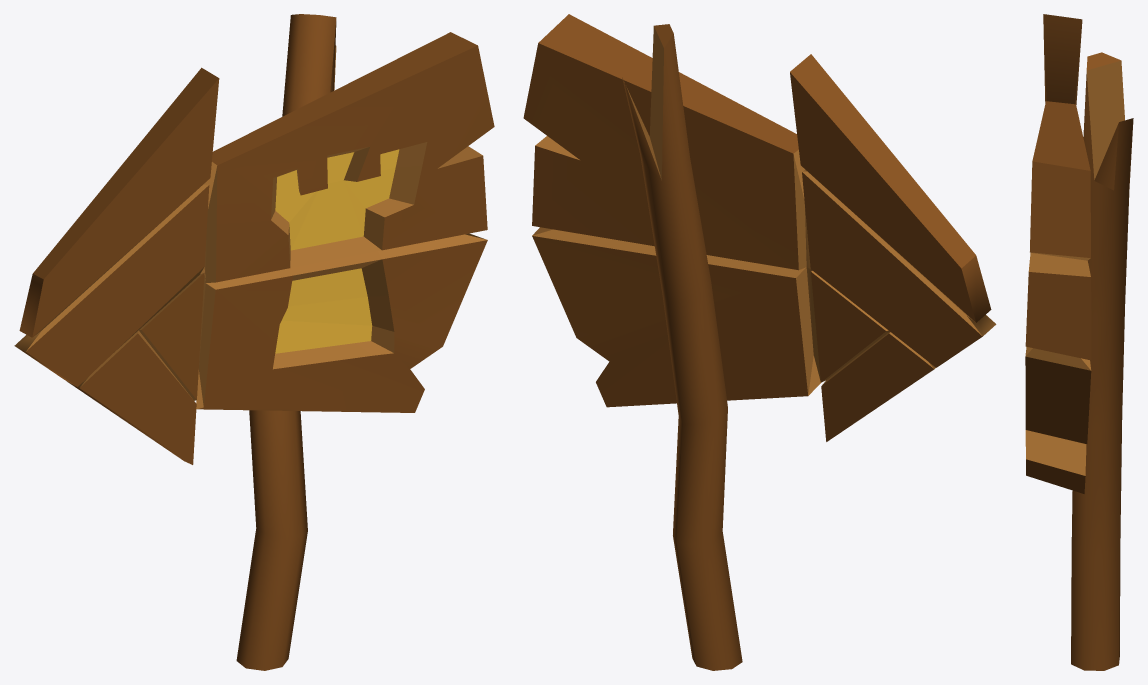
File: PROP_Ice_SignalLeft01.FBX
3 views of the same model, side by side, from view 1: azimuth 30°, elevation 25°; view 2: azimuth 150°, elevation 25°; view 3: azimuth 270°, elevation 25° (orthographic). The views are drawn at different scales.
Visible parts, largest first — view 1: PROP_Ice_SignalLeft01; view 2: PROP_Ice_SignalLeft01; view 3: PROP_Ice_SignalLeft01.
Part boxes in pixels (x1,y1,x2,y2): PROP_Ice_SignalLeft01: (14,14,494,670); PROP_Ice_SignalLeft01: (523,14,996,670); PROP_Ice_SignalLeft01: (1025,14,1133,670).
Size of the model in its own units: 106 by 139 by 21.62.
Materials: 1 (1 with a texture image).
